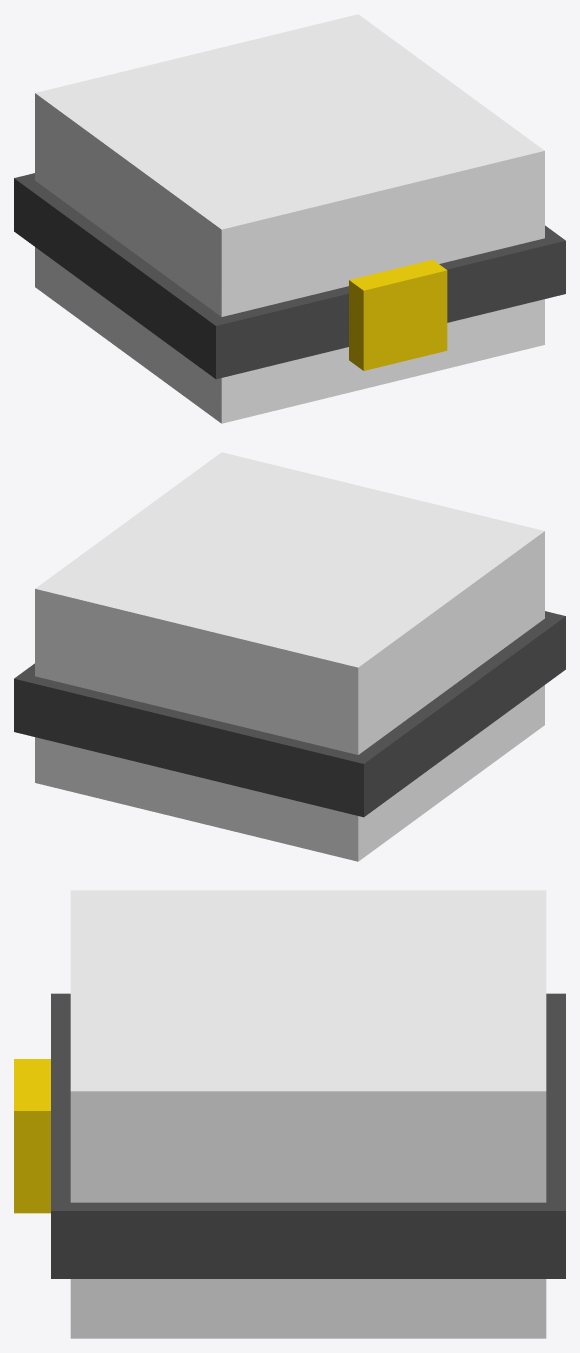
Rendered from russian hat.fbx.
The picture shows the model from 3 angles, top to bottom: view 1: azimuth 30°, elevation 25°; view 2: azimuth 150°, elevation 25°; view 3: azimuth 270°, elevation 25°; orthographic projection. The views are drawn at different scales.
Visible parts, largest first — view 1: russian hat; view 2: russian hat; view 3: russian hat.
Boxes of the visible parts, x1=… form: russian hat: x1=14, y1=14, x2=565, y2=423; russian hat: x1=14, y1=452, x2=565, y2=861; russian hat: x1=14, y1=890, x2=565, y2=1338.
Bounding box in the file's own units: 0.8511 × 0.4511 × 0.9125.
